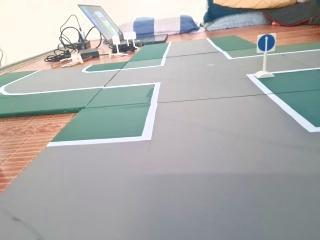straight: (253, 29, 279, 57)
